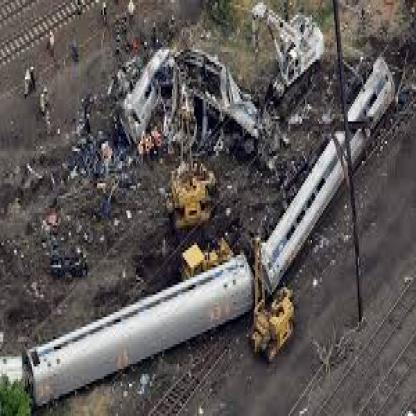accident: (98, 36, 289, 212)
